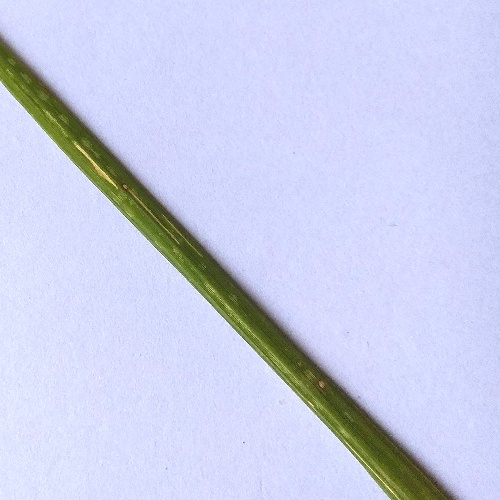Busuk Leher: (125, 181, 178, 246), (76, 136, 117, 192), (313, 372, 331, 396)
